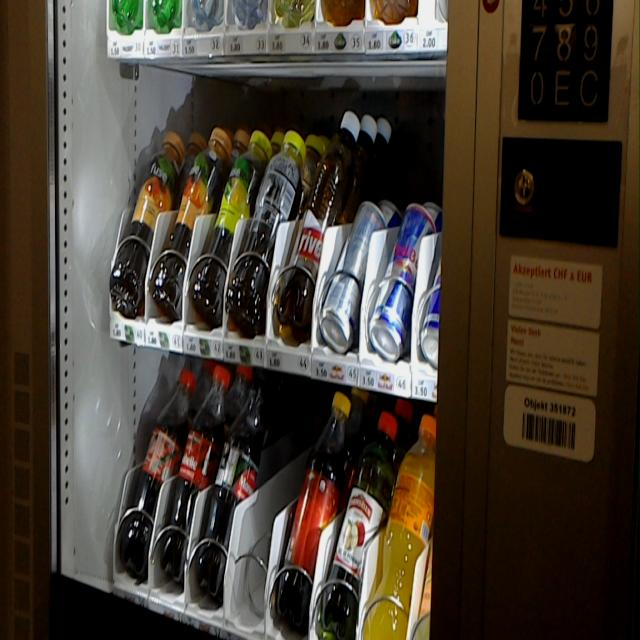coke__flasche_50__54491472: (166, 365, 228, 576), (132, 370, 190, 570)
coke_zero_flasche_50__5449000131836: (205, 368, 266, 588)
fanta___50__40822938: (370, 416, 437, 636)
fuse_lemon__50__5449000235947: (247, 134, 300, 328), (208, 131, 261, 320)
fuse_peach__50__5449000236623: (109, 126, 182, 307), (170, 126, 225, 312)
mezzomix___50__54490840: (289, 393, 346, 621)
ramseier_jusdepomme__50__7610057001078: (328, 412, 394, 630)
redbull___33__90162909: (377, 198, 432, 354), (330, 203, 378, 342)
rivella_rot__50__7610097111072: (286, 107, 358, 326)
